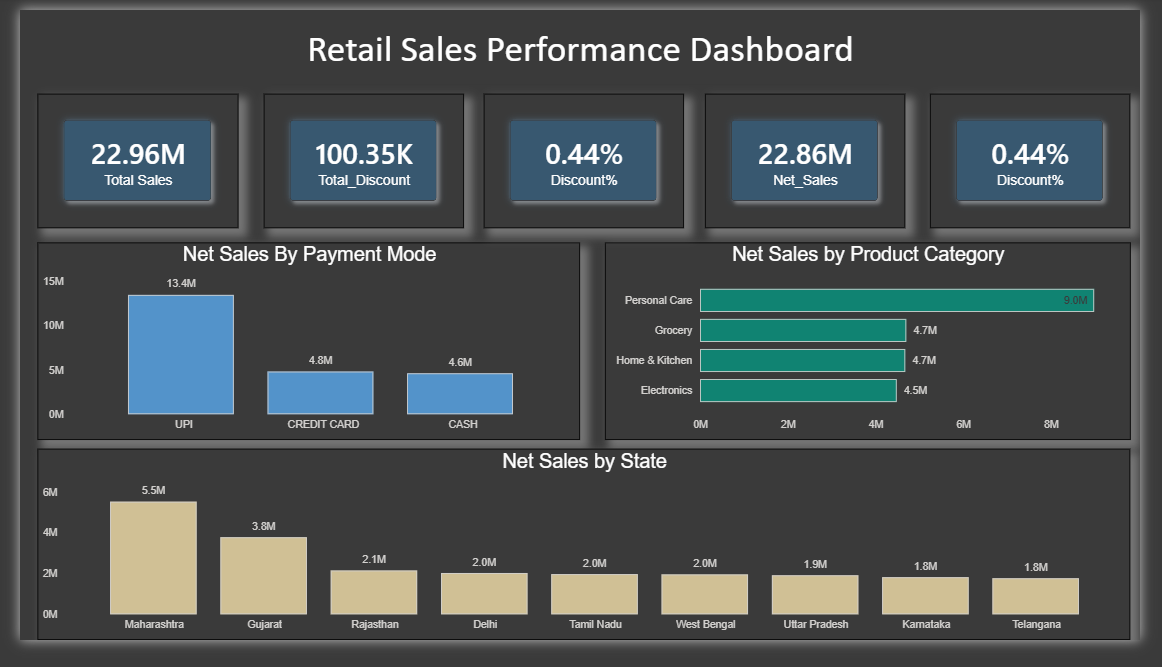

This screenshot's page, from the dashboard's own definition file:
{"tool":"powerbi","page":{"name":"Retail Sales_ Dashboard","canvas":[1280,720],"ordinal":0},"visuals":[{"type":"cardVisual","fields":{"Data":["retail_sales.Net_Sales"]},"box":[783.5,95.1,228.5,153.3],"z":0},{"type":"cardVisual","fields":{"Data":["retail_sales.Total Sales"]},"box":[19.9,95.1,229.9,153.3],"z":1000},{"type":"cardVisual","fields":{"Data":["retail_sales.Total_Discount"]},"box":[278.2,95.1,228.5,153.3],"z":2000},{"type":"cardVisual","fields":{"Data":["retail_sales.Measure"]},"box":[1040.4,95.1,228.5,153.3],"z":3000},{"type":"clusteredColumnChart","title":"Net Sales By Payment Mode","fields":{"Y":["retail_sales.Net_Sales"],"Category":["retail_sales.Payment_Mode"]},"box":[19.9,265.4,620.3,225.7],"z":4000},{"type":"barChart","fields":{"Y":["retail_sales.Net_Sales"],"Category":["retail_sales.Product_Category"]},"box":[668.5,265.4,600.4,225.7],"z":5000},{"type":"columnChart","fields":{"Y":["retail_sales.Net_Sales"],"Category":["retail_sales.State"]},"box":[19.9,501,1249.1,218.6],"z":6000},{"type":"cardVisual","fields":{"Data":["retail_sales.Discount%"]},"box":[529.4,95.1,228.5,153.3],"z":7000},{"type":"textbox","box":[288.1,12.8,704,72.4],"z":8000}]}

Visuals, with their boxes in screenshot pixels (x1, y1, x2, y2), scaled from the page's 1280x720 canvas onto the 1162x667 screenshot:
cardVisual - retail_sales.Net_Sales: bbox=[711, 88, 919, 230]
cardVisual - retail_sales.Total Sales: bbox=[18, 88, 227, 230]
cardVisual - retail_sales.Total_Discount: bbox=[253, 88, 460, 230]
cardVisual - retail_sales.Measure: bbox=[944, 88, 1152, 230]
"Net Sales By Payment Mode" clusteredColumnChart: bbox=[18, 246, 581, 455]
barChart - retail_sales.Net_Sales x retail_sales.Product_Category: bbox=[607, 246, 1152, 455]
columnChart - retail_sales.Net_Sales x retail_sales.State: bbox=[18, 464, 1152, 666]
cardVisual - retail_sales.Discount%: bbox=[481, 88, 688, 230]
textbox: bbox=[262, 12, 901, 79]
